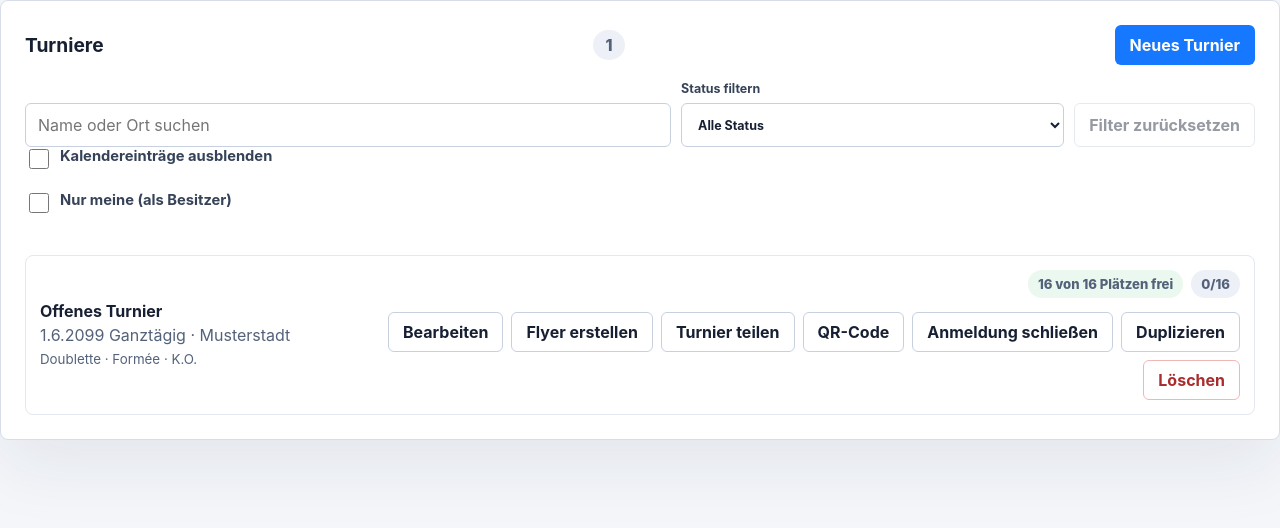
Test case: Turnierverwaltung: QR-Code zur Anmeldung › teilt beim Turnier-Teilen denselben festen Link wie im QR-Code
This screenshot has width=1280, height=528.
Click the button "Turnier teilen". click: (728, 332)
box: [661,312,794,352]
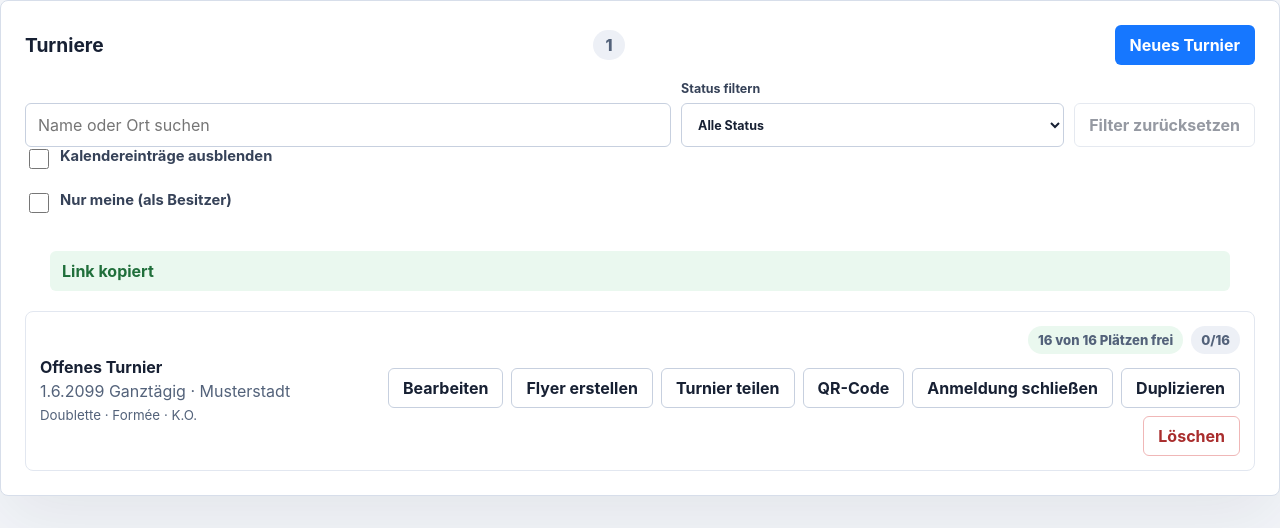
Now the text "Link kopiert" is shown, box [50,251,1230,291]
